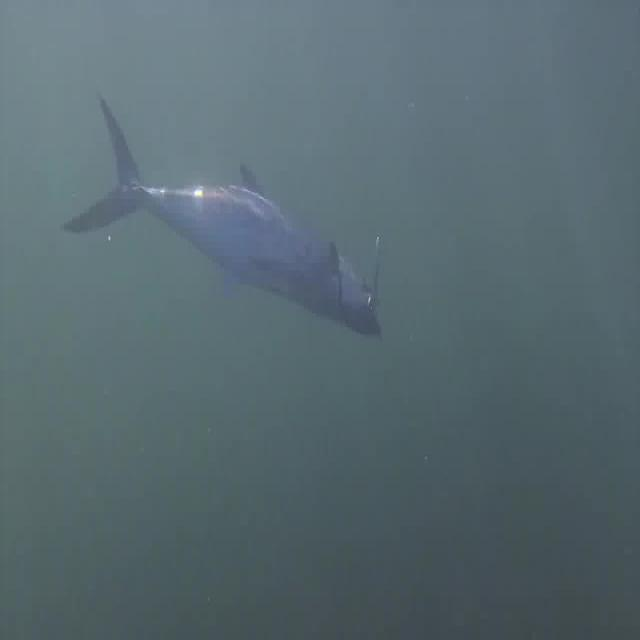Spanish Mackerel: (58, 93, 384, 340)
